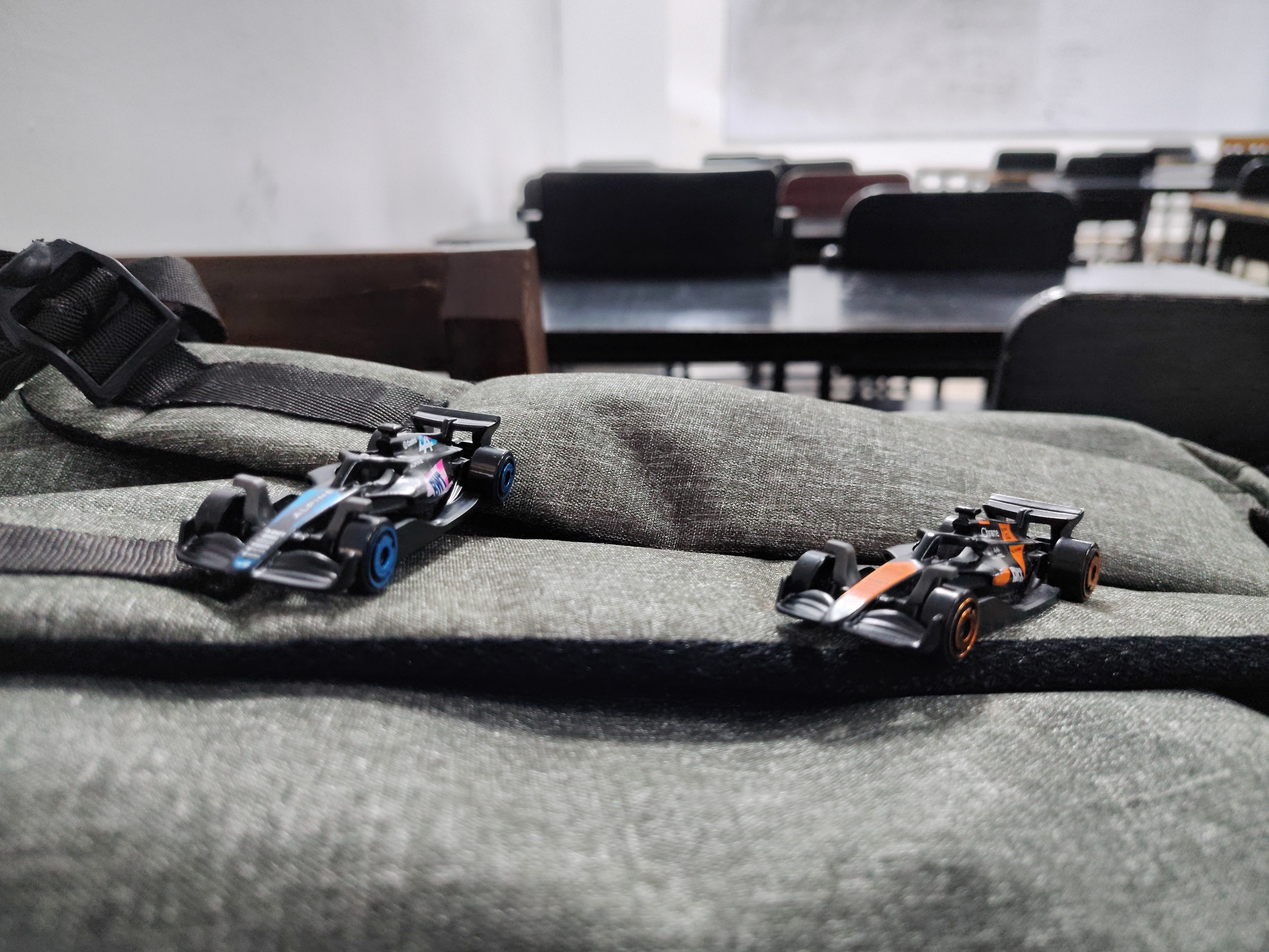Alpine A524: (147, 364, 573, 604)
McLaren MCL40: (689, 445, 1180, 686)
